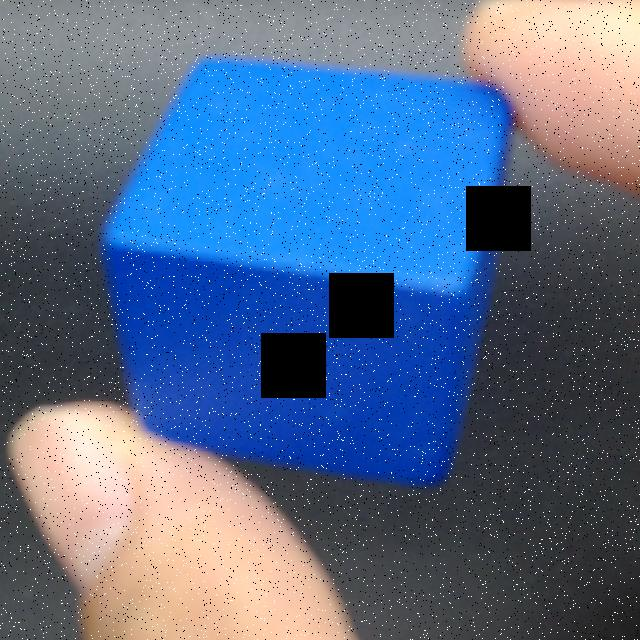bluecube: (100, 57, 516, 490)
